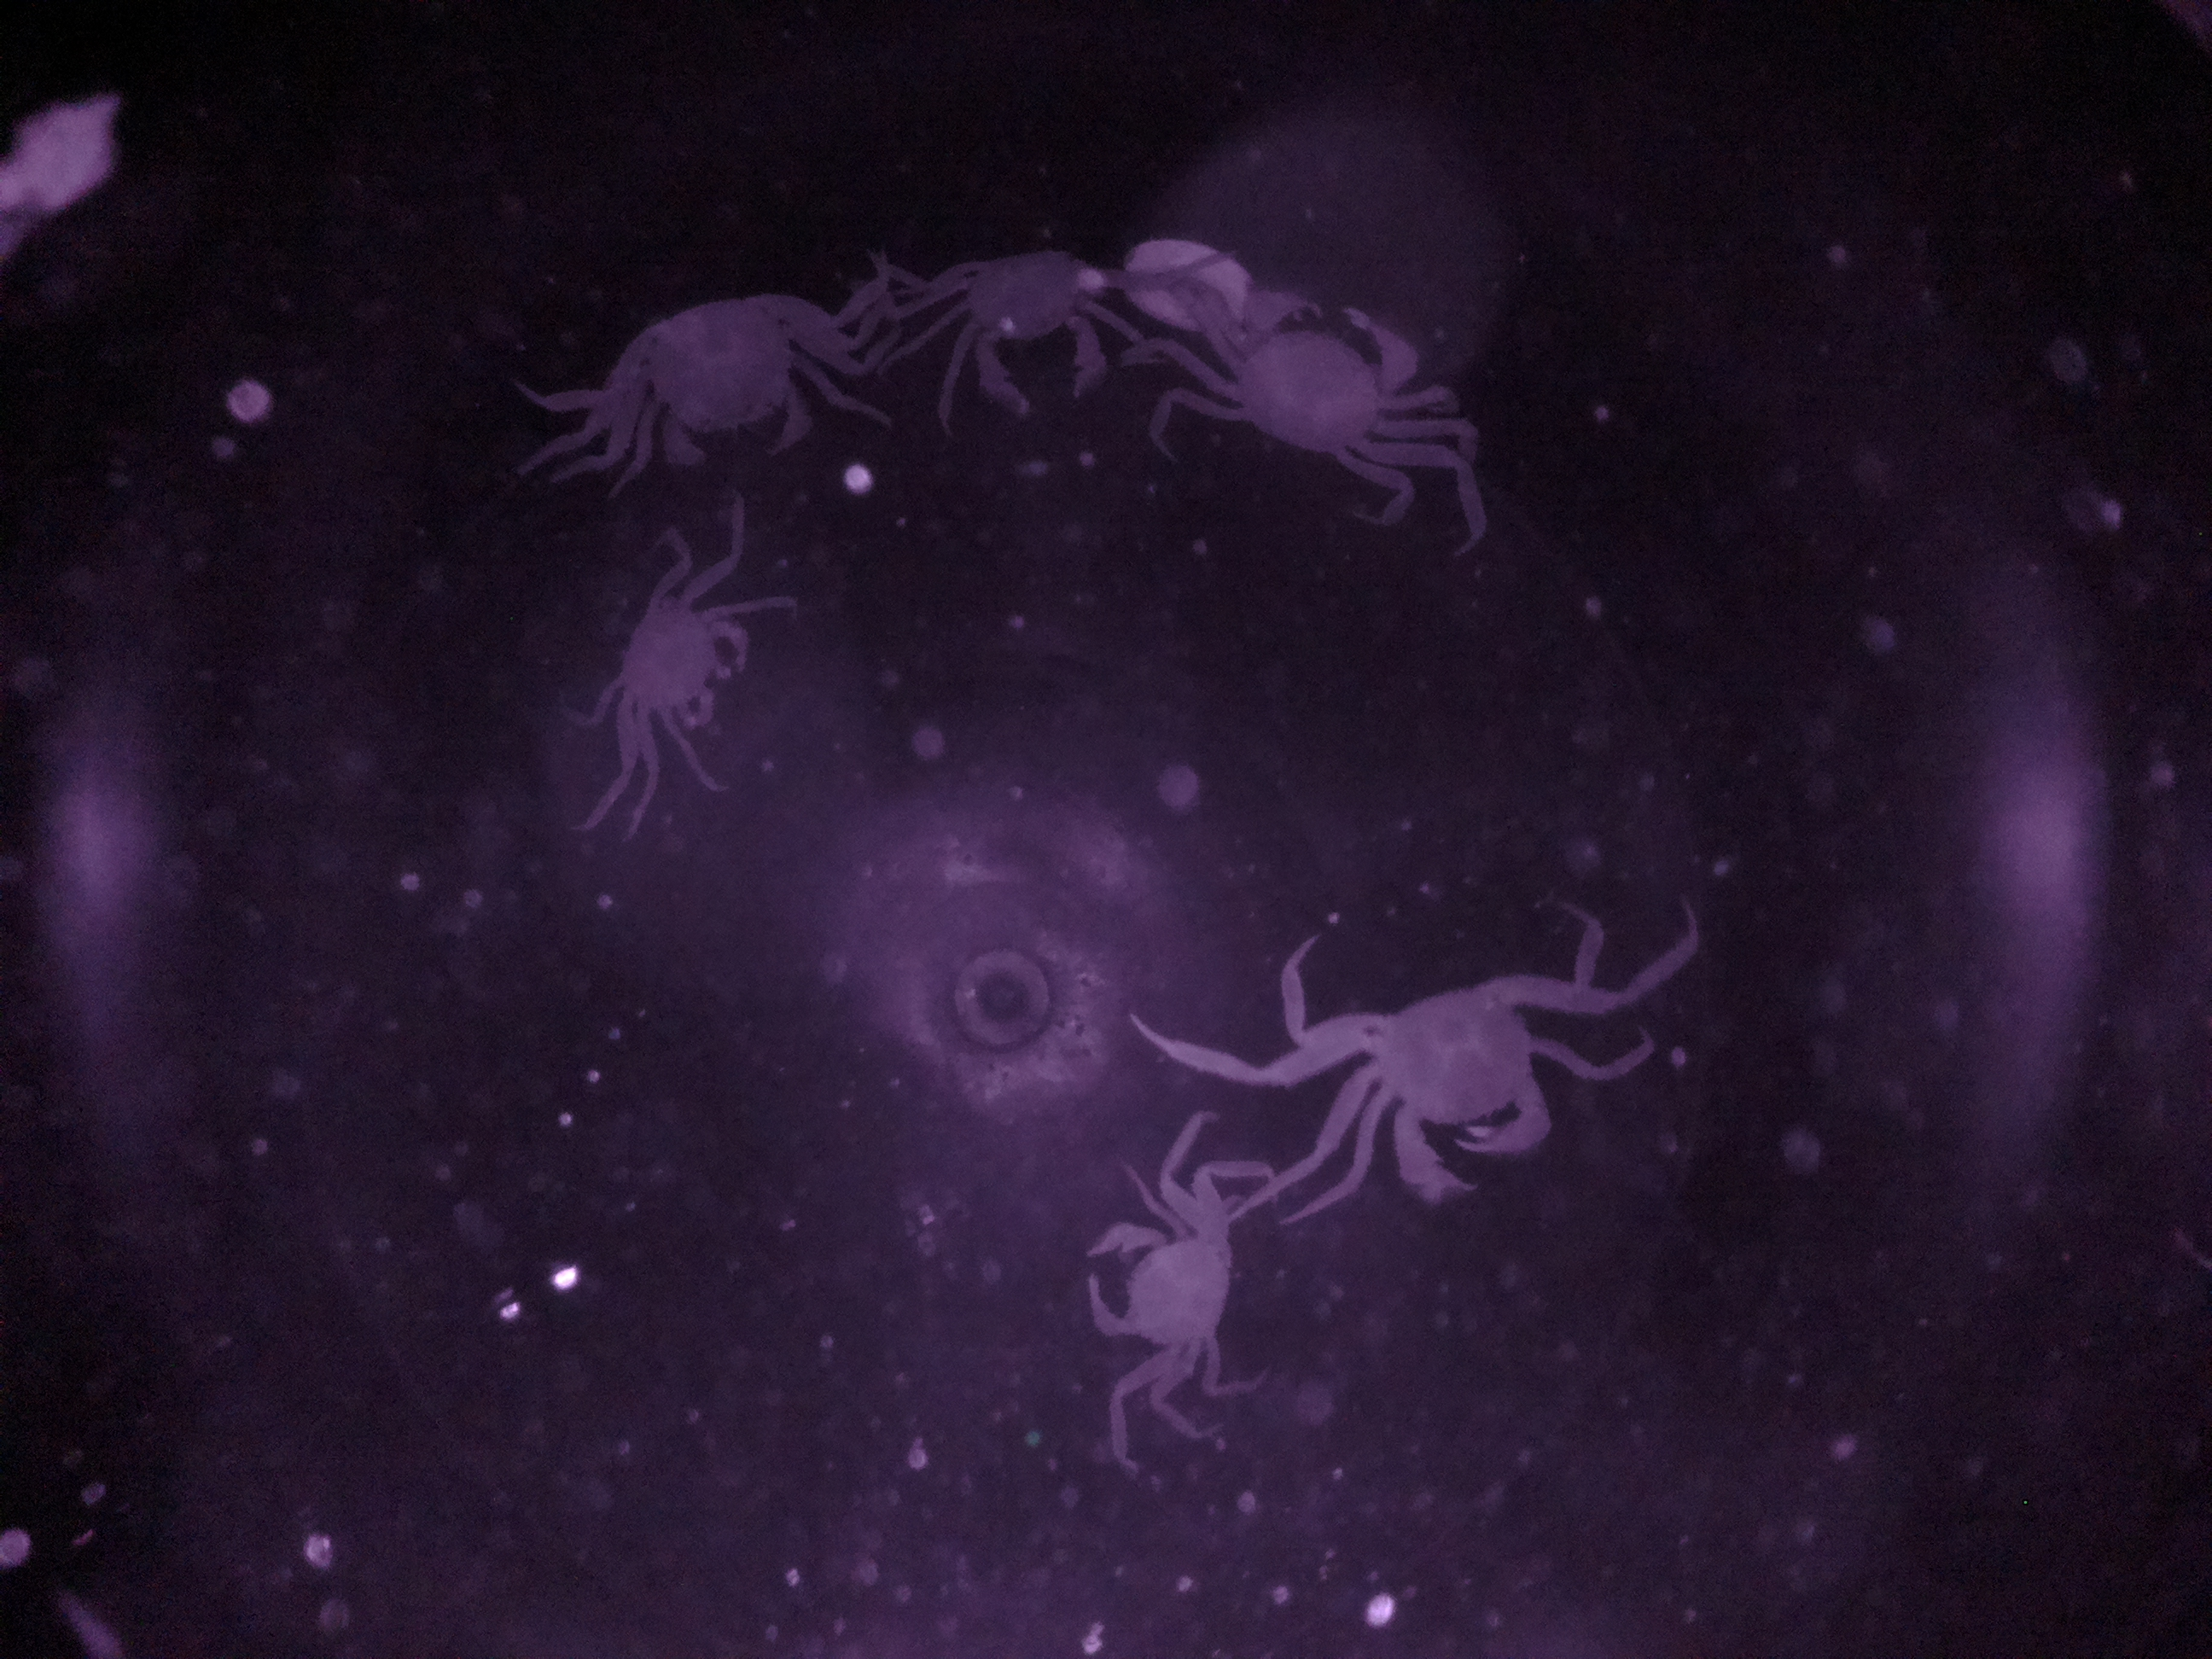Crab: (1299, 939, 1602, 1239), (578, 263, 894, 493), (1153, 279, 1453, 477), (577, 556, 789, 786), (1064, 1159, 1252, 1413), (907, 207, 1134, 418)
